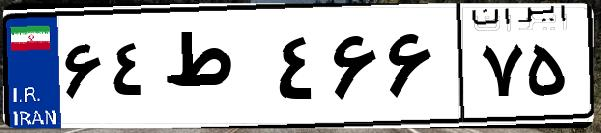4: (270, 28, 330, 110), (110, 28, 158, 98)
5: (525, 38, 570, 115)
6: (385, 28, 445, 110), (330, 28, 385, 110), (57, 26, 110, 100)
7: (475, 38, 525, 113)
ط: (158, 20, 270, 120)
